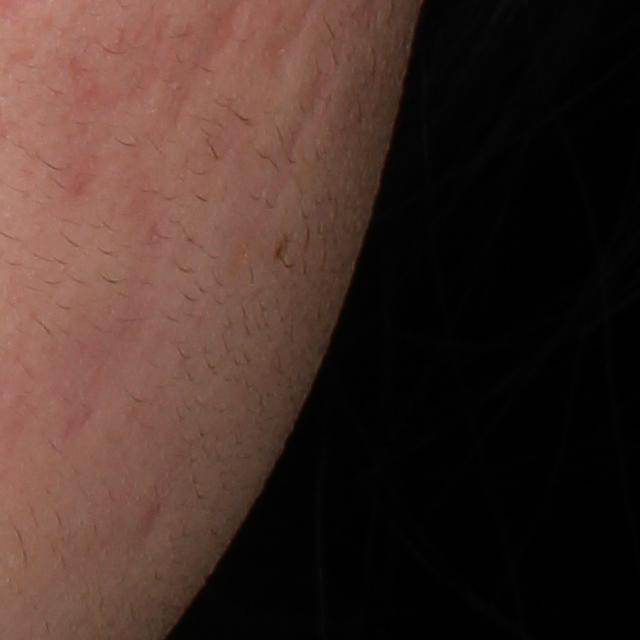atrophic_scar: (42, 196, 184, 455), (66, 45, 156, 203), (287, 14, 349, 162), (125, 467, 175, 576)
